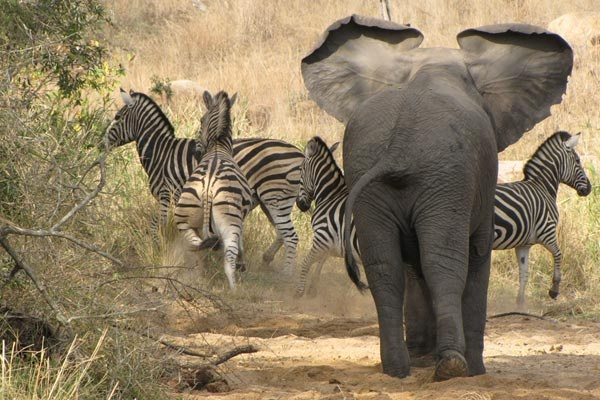elephant: (300, 13, 573, 381)
zebra: (102, 89, 305, 282), (487, 133, 592, 297), (183, 89, 249, 292)
